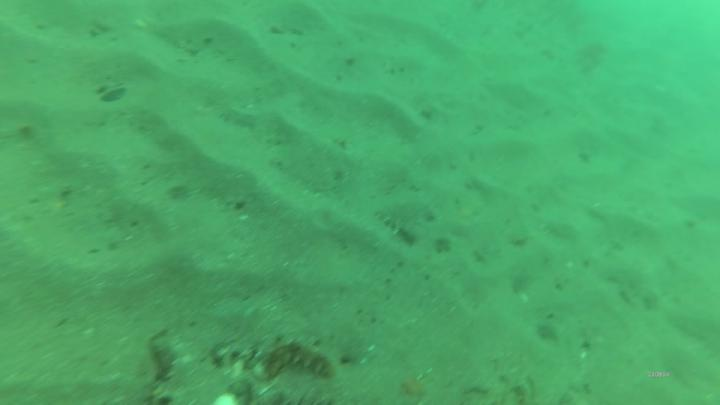holothurian: (262, 341, 337, 383)
